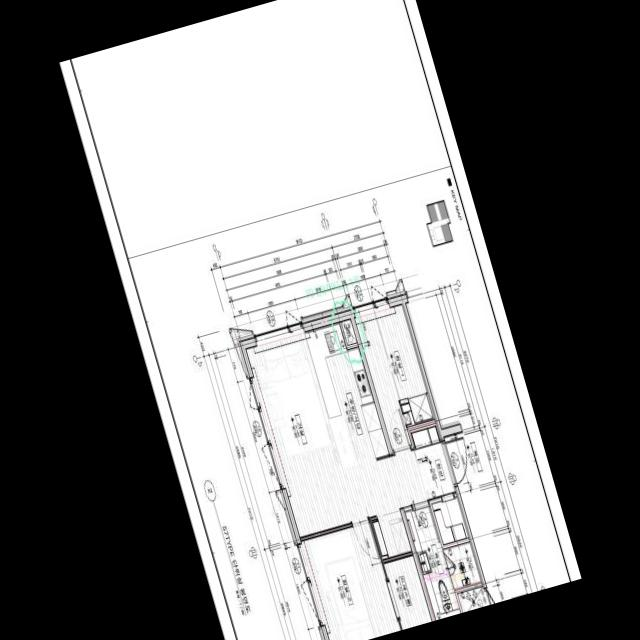background: (59, 0, 581, 640)
space_bedroom: (301, 522, 400, 640), (354, 305, 426, 450)
space_dressroom: (383, 556, 431, 629)
space_front: (409, 422, 455, 498)
space_kitchen: (304, 319, 388, 467)
space_living_room: (246, 332, 428, 559)
space_other: (407, 289, 527, 604), (431, 497, 468, 544), (398, 393, 434, 426), (457, 586, 489, 612)
space_toilet: (404, 506, 480, 620)
